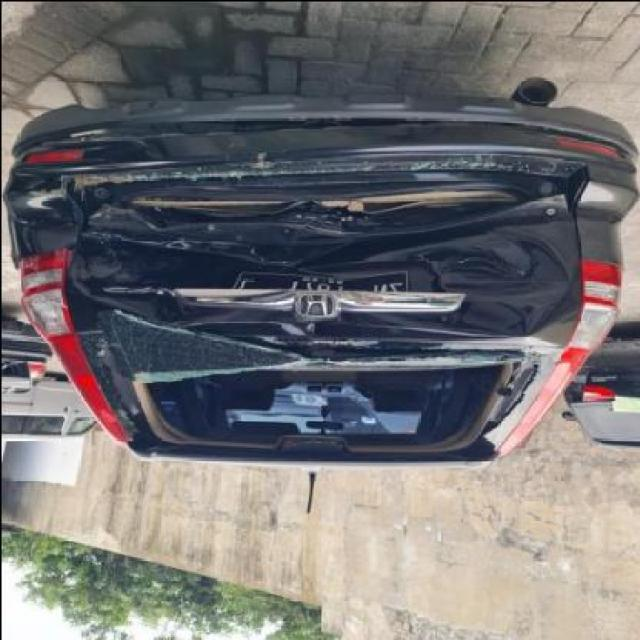damage: (14, 142, 584, 345), (86, 333, 562, 455)
